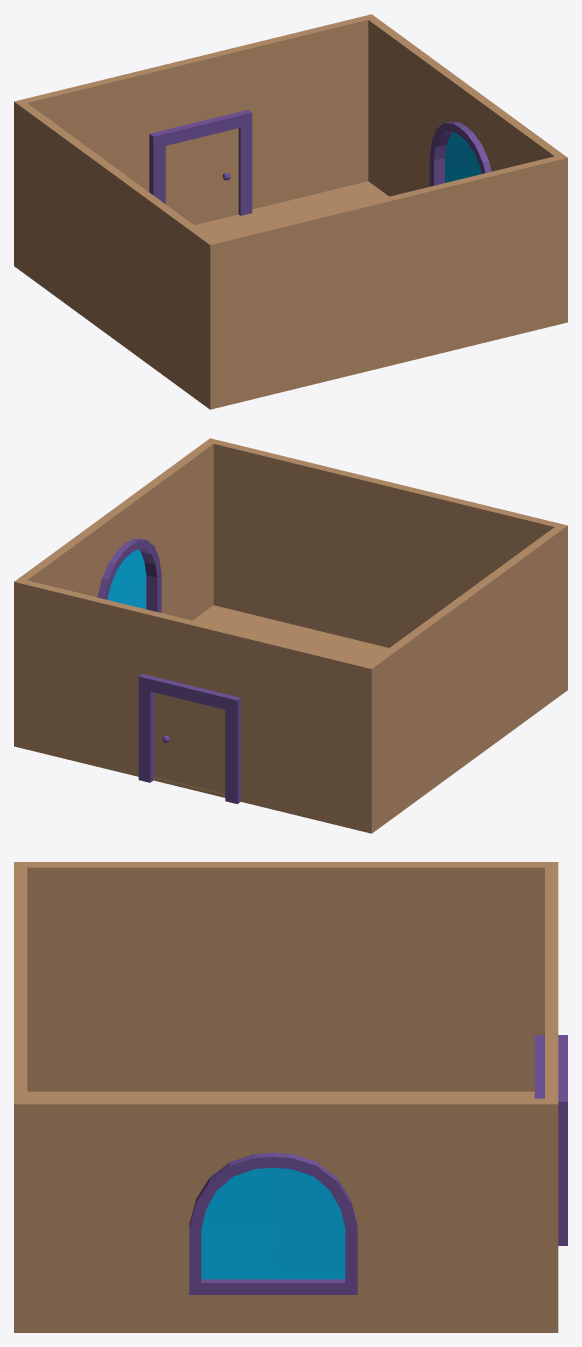
Rendered from CajaCasa 1.5 Interior 2.fbx.
The picture shows the model from 3 angles, top to bottom: view 1: azimuth 30°, elevation 25°; view 2: azimuth 150°, elevation 25°; view 3: azimuth 270°, elevation 25°; orthographic projection. The views are drawn at different scales.
Parts seen in each view (by area): view 1: Cube.008; view 2: Cube.008; view 3: Cube.008.
Part boxes in pixels (<box>): Cube.008: <box>14,14,567,409</box>; Cube.008: <box>14,438,567,833</box>; Cube.008: <box>14,862,567,1332</box>.
Size of the model in its own units: 1230 by 532 by 1169.
